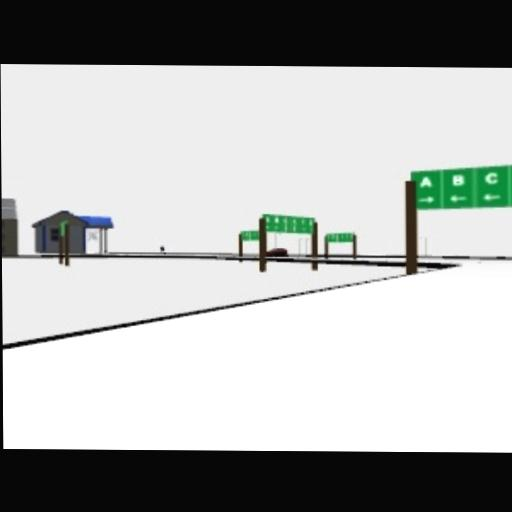A: (419, 175, 433, 189)
B: (452, 172, 465, 187)
C: (485, 171, 500, 185)
Left: (448, 193, 467, 204), (483, 192, 502, 202)
Right: (418, 194, 435, 204)
